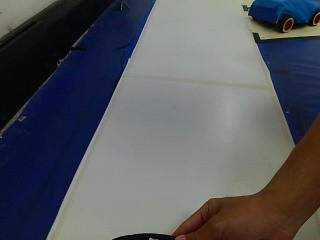car: (245, 0, 318, 32)
